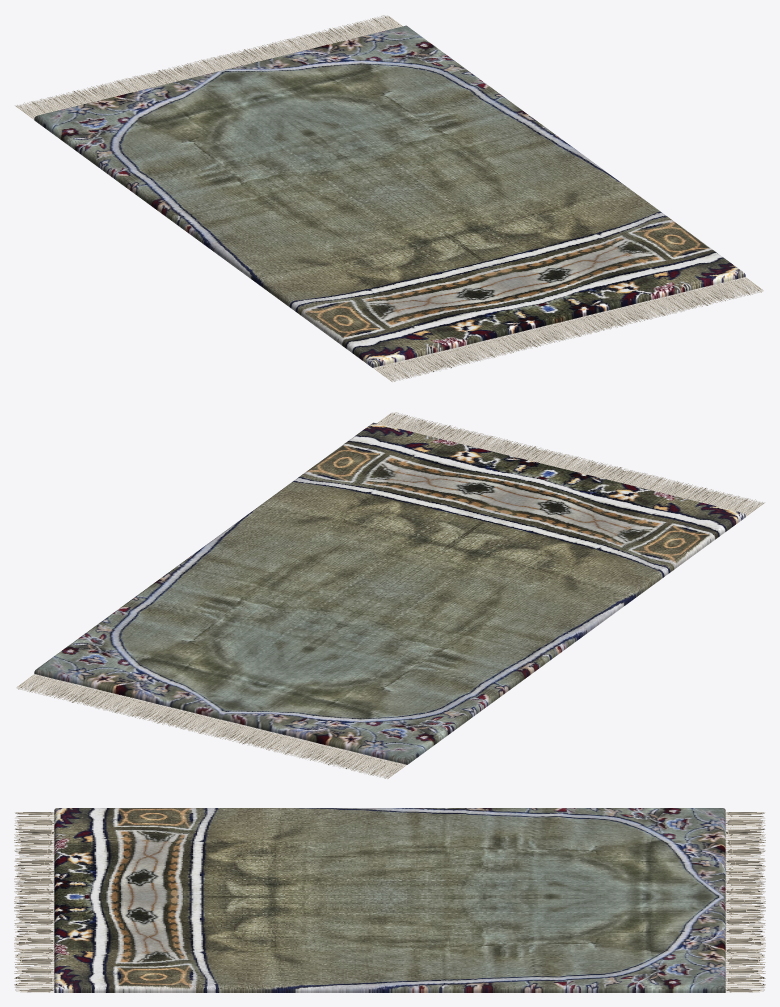
3 renders of one model, top to bottom at view 1: azimuth 30°, elevation 25°; view 2: azimuth 150°, elevation 25°; view 3: azimuth 270°, elevation 25°, orthographic.
Visible parts, largest first — view 1: k10; view 2: k10; view 3: k10.
Part boxes in pixels (<box>): k10: <box>15,15,763,381</box>; k10: <box>16,412,764,778</box>; k10: <box>14,808,765,992</box>.
Size of the model in its own units: 0.7 by 0.0105 by 1.23.
3 materials, 2 textured.
